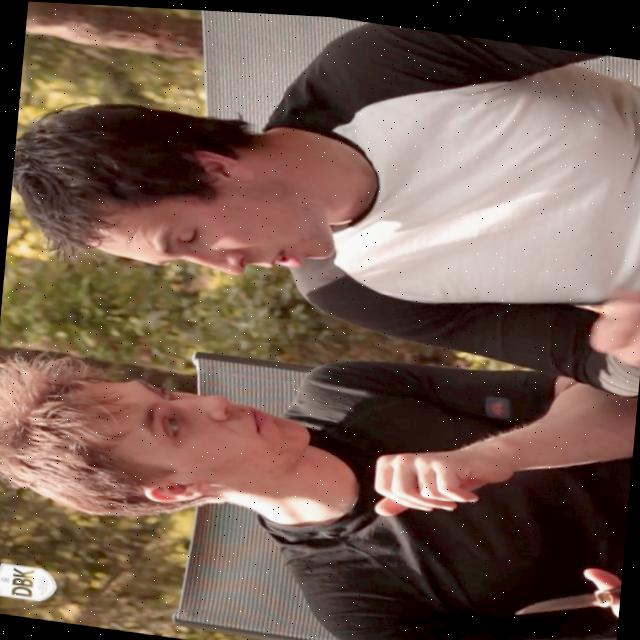knife: (503, 563, 616, 632)
